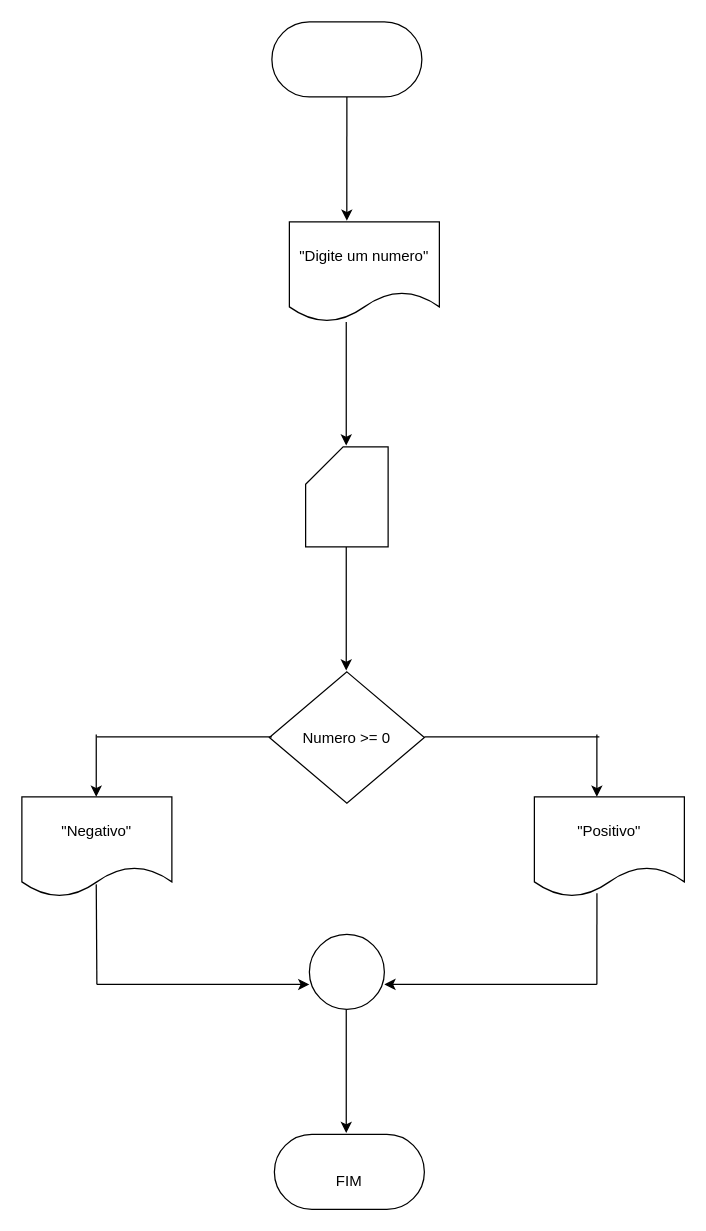
The diagram is 706 pixels wide and 1231 high, and some of its shapes have lost their labels. The shapes that lost their labels are listed below. From the top down, each one's box as (x1, y1, x2, y2) in pixels, then its label:
(271, 21, 422, 97): INICIO
(304, 446, 388, 547): Numero
